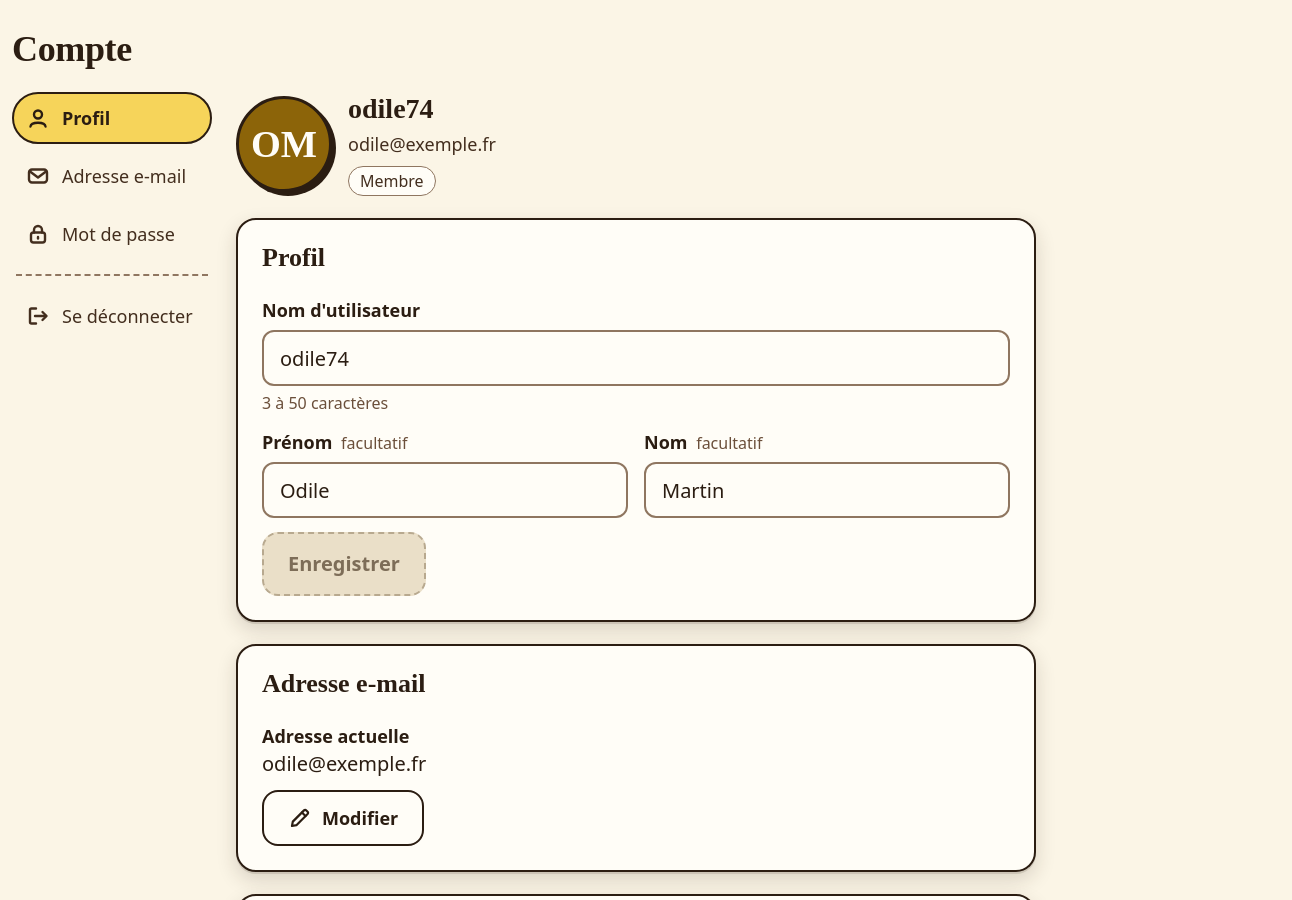
it: AccountScreen › the profile card › says a username is taken (409) on its field, keeps what was typed, and focuses it
Clear the field labelled "Nom d'utilisateur": (636, 358) top-left (262, 330), bottom-right (1010, 386)
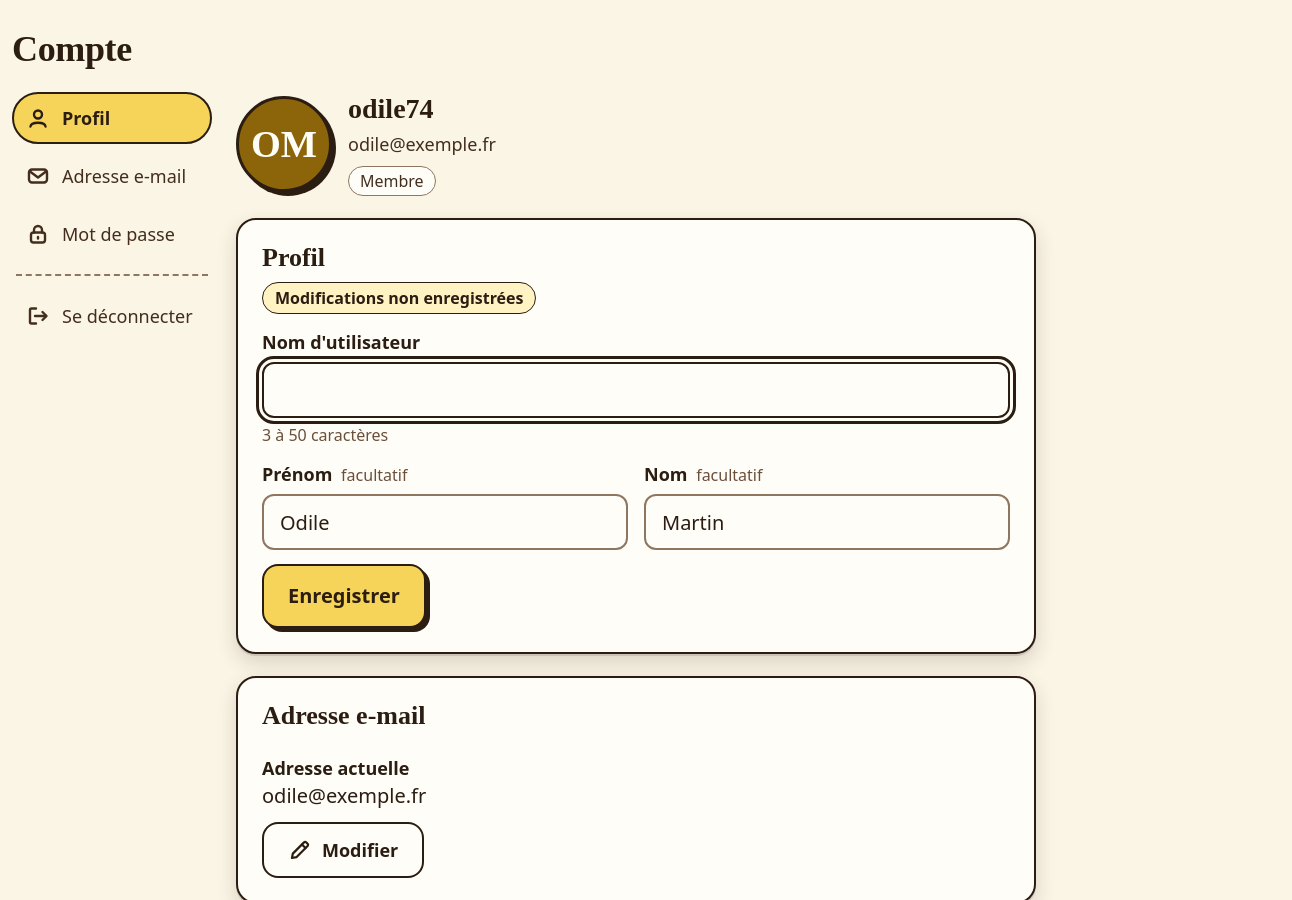
In the field labelled "Nom d'utilisateur": (636, 390) top-left (262, 362), bottom-right (1010, 418), type "mamie"
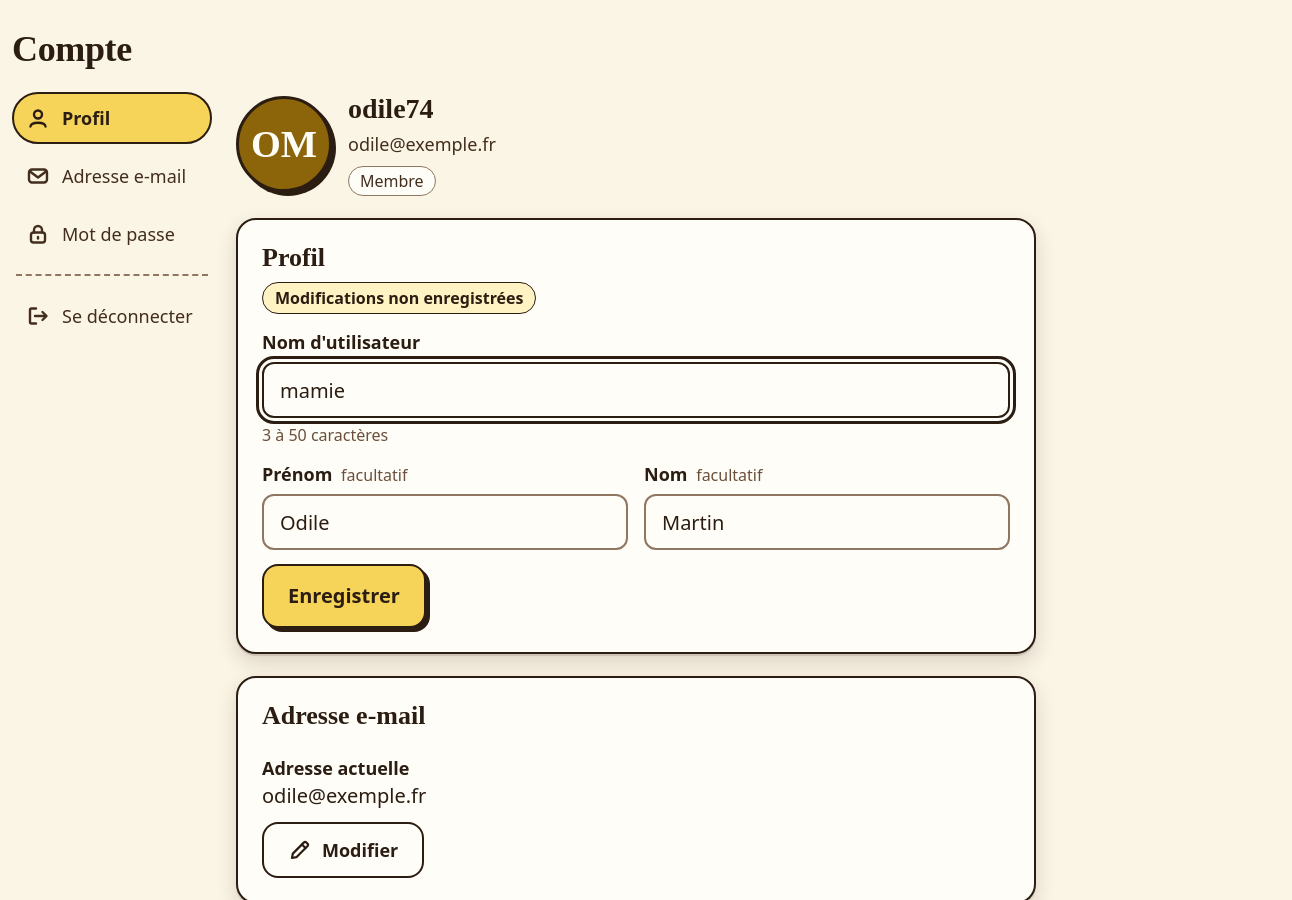
Click the button "Enregistrer": (344, 596) top-left (262, 564), bottom-right (426, 628)
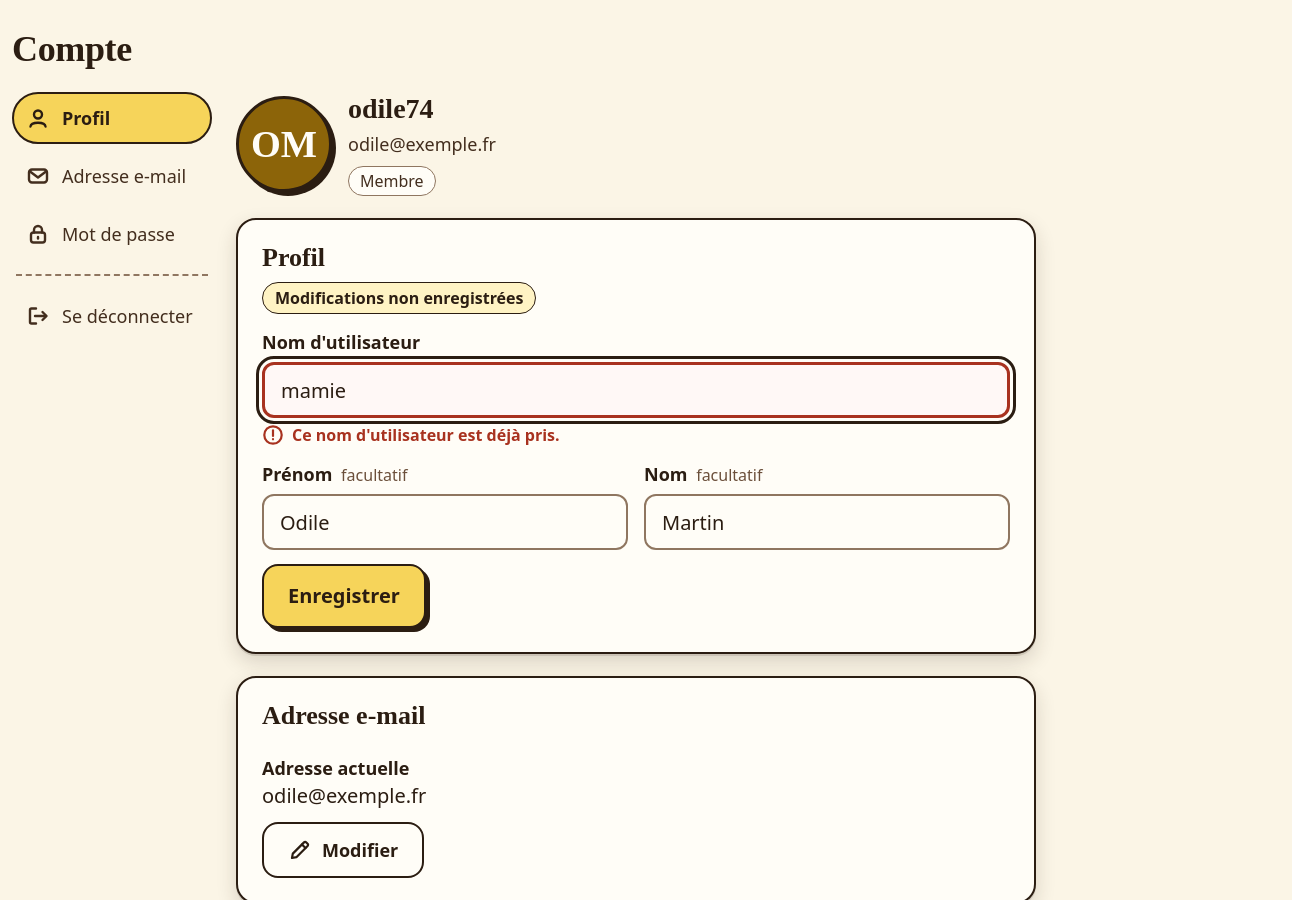
expect the text "Ce nom d'utilisateur est déjà pris." is shown: met, box top-left (262, 424), bottom-right (560, 446)
